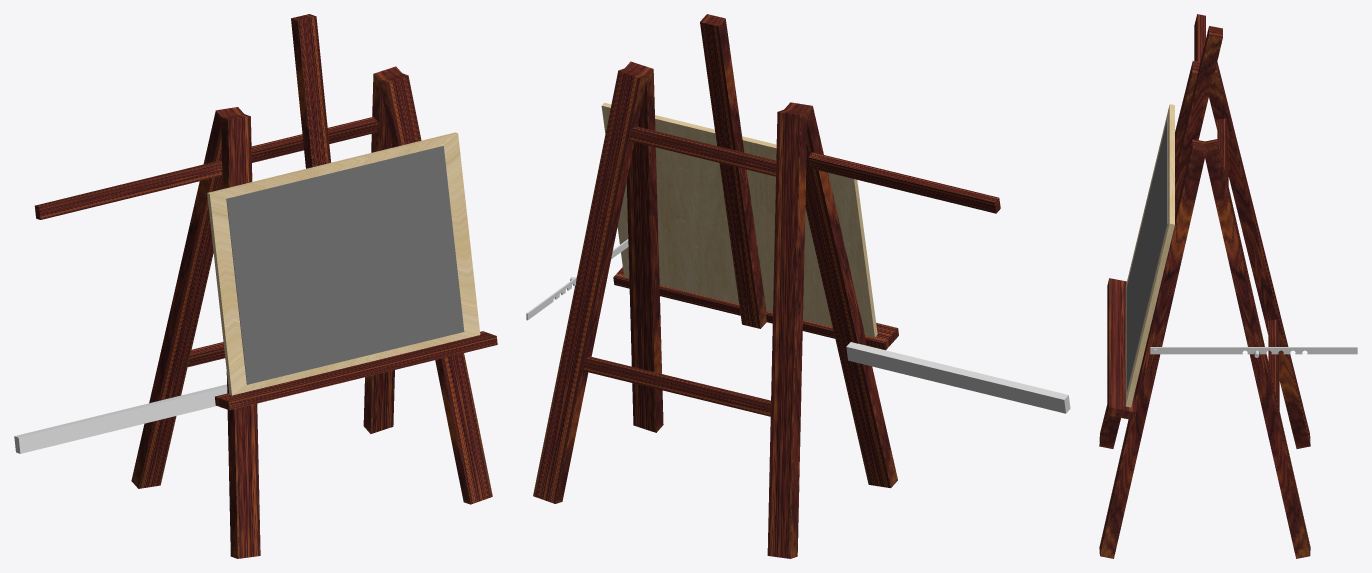
Rendered from Easel-1.FBX.
3 renders of one model, left to right at view 1: azimuth 30°, elevation 25°; view 2: azimuth 150°, elevation 25°; view 3: azimuth 270°, elevation 25°, orthographic. The views are drawn at different scales.
Visible parts, largest first — view 1: Box11, Box07, Box02, Box01, Box04, Box10, Box03, Box06, Box08, Box09, Box05; view 2: Box11, Box07, Box08, Box02, Box01, Box03, Box10, Box06, Box05, Box09, Box04; view 3: Box08, Box11, Box01, Box07, Box04, Box03, Box12, Box02, Box05, Box09, Box06.
Part boxes in pixels (box(x1,y1,x2,y2)): Box11: box(207, 132, 480, 395); Box07: box(131, 107, 243, 488); Box02: box(221, 114, 260, 558); Box01: box(379, 73, 492, 504); Box04: box(215, 331, 497, 410); Box10: box(14, 384, 227, 453); Box03: box(291, 14, 330, 168); Box06: box(34, 160, 222, 219); Box08: box(363, 66, 401, 433); Box09: box(251, 117, 377, 162); Box05: box(187, 342, 225, 366); Box11: box(601, 102, 877, 337); Box07: box(767, 109, 807, 558); Box08: box(533, 68, 647, 503); Box02: box(784, 102, 897, 488); Box01: box(624, 61, 663, 432); Box03: box(700, 14, 766, 328); Box10: box(846, 342, 1070, 413); Box06: box(808, 152, 1000, 213); Box05: box(583, 356, 770, 416); Box09: box(629, 126, 776, 176); Box04: box(613, 267, 898, 350); Box08: box(1204, 139, 1310, 558); Box11: box(1125, 104, 1174, 407); Box01: box(1099, 139, 1204, 558); Box07: box(1209, 62, 1310, 448); Box04: box(1107, 278, 1136, 420); Box03: box(1175, 26, 1222, 213); Box12: box(1150, 347, 1357, 354); Box02: box(1099, 61, 1200, 448); Box05: box(1268, 319, 1279, 409); Box09: box(1217, 118, 1228, 185); Box06: box(1194, 14, 1205, 61).
Size of the model in its own units: 165 by 163 by 81.53.
4 materials, 3 textured.
